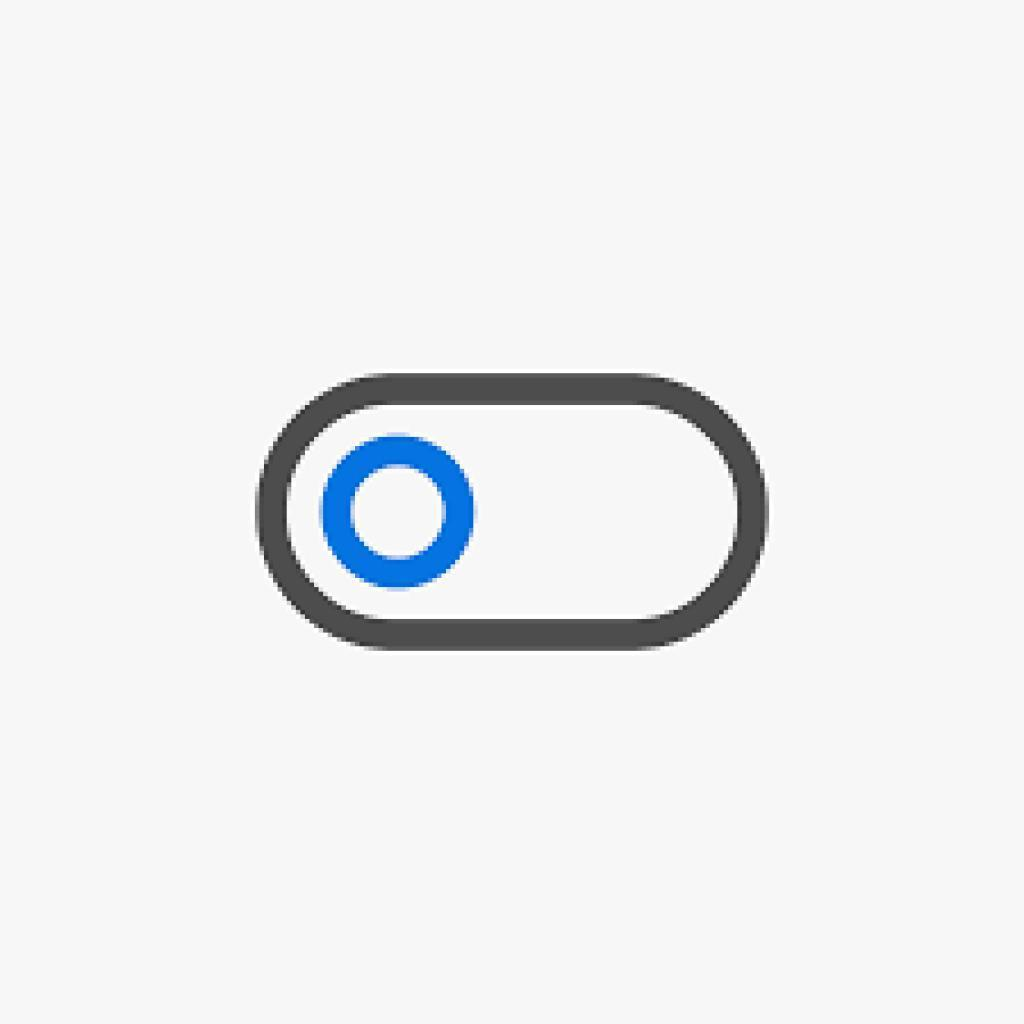switch: (254, 373, 770, 654)
